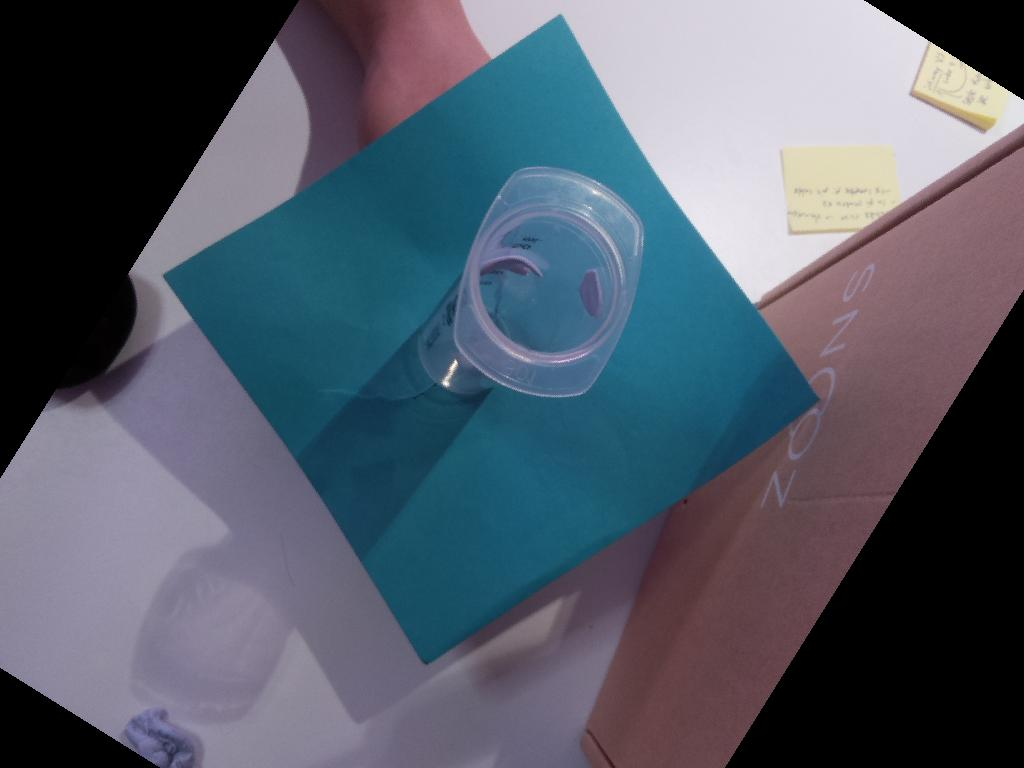dirty: (454, 165, 645, 400)
